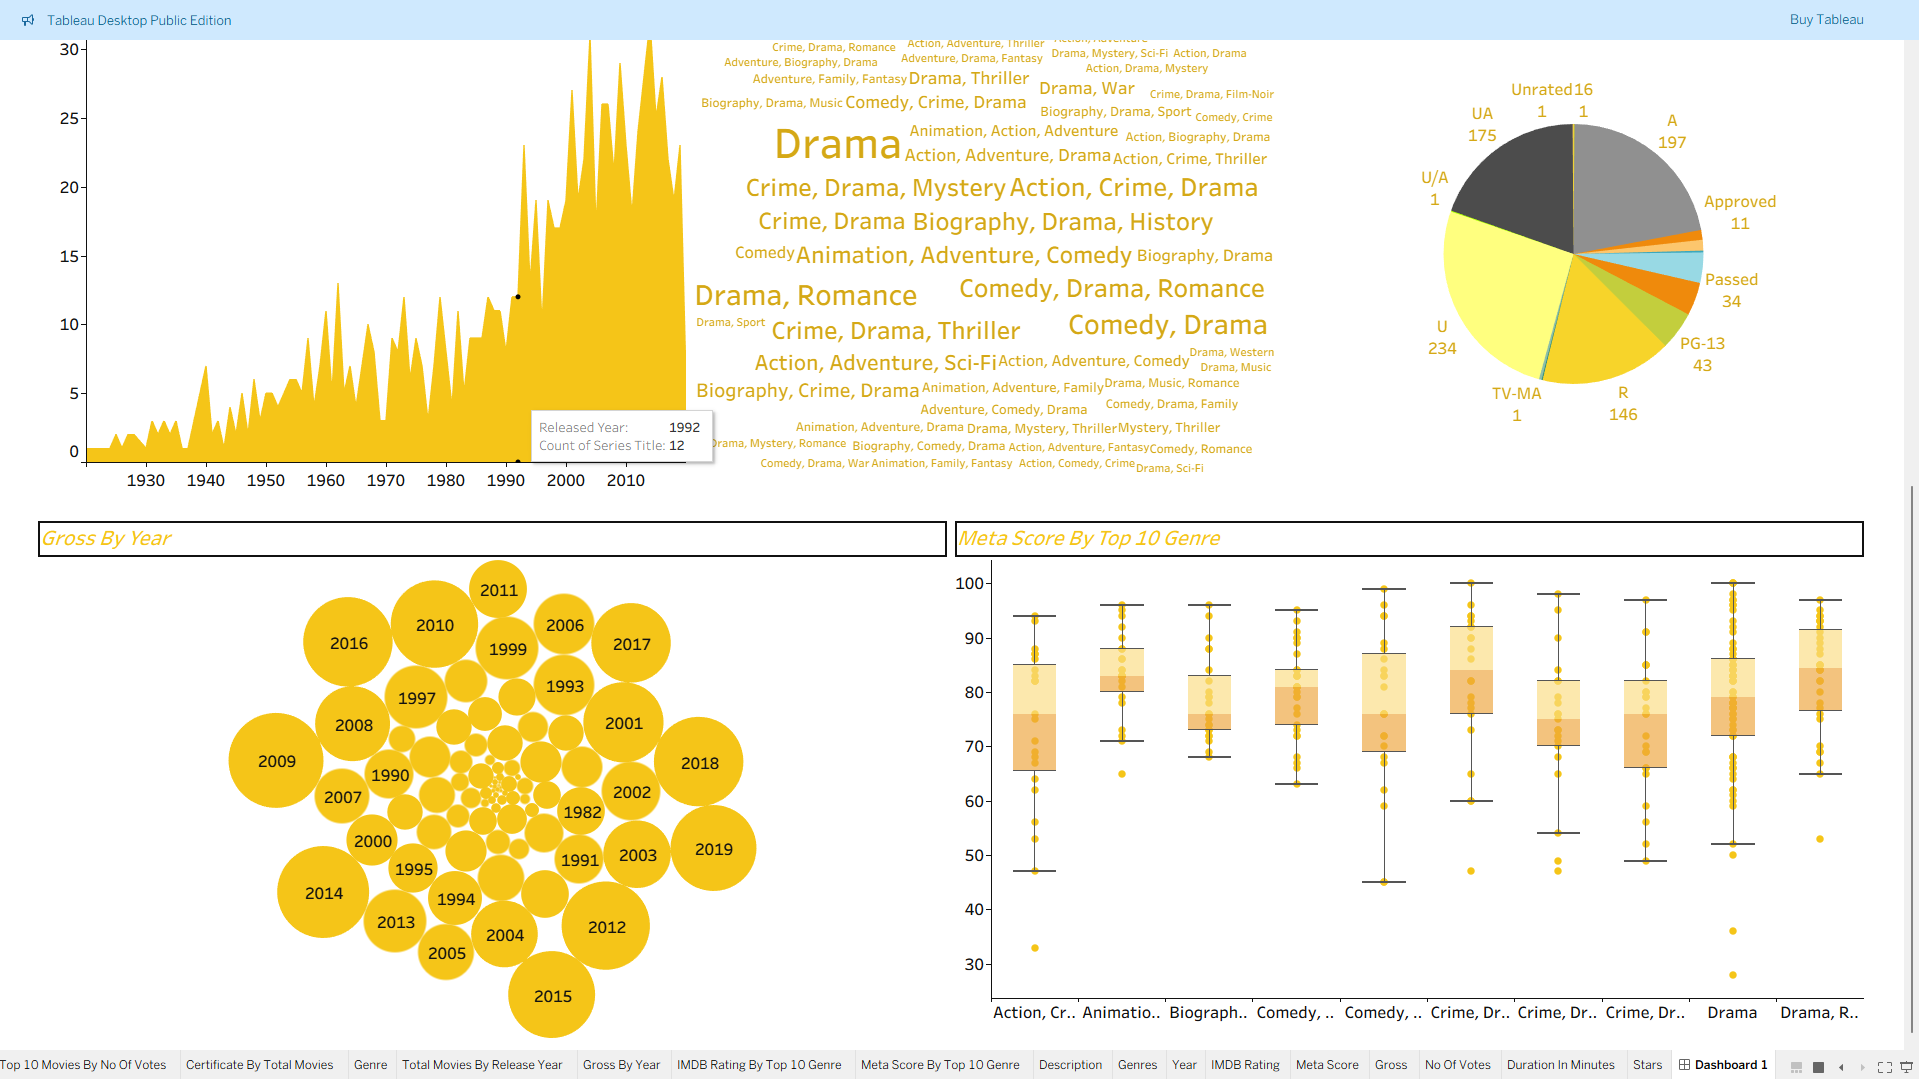

Layout of this report page (visuals, bound fields, positions):
{"tool":"tableau","page":{"name":"Dashboard 1","canvas":[1850,1800],"ordinal":0},"visuals":[{"type":"worksheet","title":"No Of Votes","mark":"Text","box":[8,8,229.2,104]},{"type":"worksheet","title":"Gross ","mark":"Text","box":[237.2,8,260.8,104]},{"type":"worksheet","title":"IMDB Rating","mark":"Text","box":[498,8,242,104]},{"type":"filter","title":"Description","param":"[federated.01yjoc115v95gh0ziov50025qm2x].[none:Series_Title:nk]","box":[740,8,209.7,104]},{"type":"worksheet","title":"Meta Score","mark":"Text","box":[949.7,8,209.7,104]},{"type":"worksheet","title":"Stars","mark":"Text","box":[1159.5,8,243.2,231]},{"type":"worksheet","title":"Description","mark":"Text","box":[1402.7,8,439.3,231]},{"type":"worksheet","title":"Duration In Minutes","mark":"Text","box":[8,112,229.2,127]},{"type":"worksheet","title":"Year","mark":"Text","box":[237.2,112,157.8,127]},{"type":"worksheet","title":"Genres","mark":"Text","box":[395,112,269,127]},{"type":"image","param":"Image/IMDB_Logo_2016.svg.png","box":[664,112,495.4,127]},{"type":"worksheet","title":"Top 10 Movies By No Of Votes","mark":"Automatic","rows":["Series_Title"],"cols":["No_of_Votes"],"box":[8,239,917,461.6]},{"type":"worksheet","title":"IMDB Rating By Top 10 Genre","mark":"Circle","rows":["IMDB_Rating"],"cols":["Genre"],"box":[925,239,917,461.6]},{"type":"worksheet","title":"Total Movies By Release Year","mark":"Area","rows":["Series_Title"],"cols":["Released_Year"],"box":[8,700.6,656,566.5]},{"type":"worksheet","title":"Genre","mark":"Text","box":[664,700.6,589,566.5]},{"type":"worksheet","title":"Certificate By Total Movies","mark":"Pie","box":[1253,700.6,589,566.5]},{"type":"worksheet","title":"Gross By Year","mark":"Circle","box":[8,1267.2,917,524.8]},{"type":"worksheet","title":"Meta Score By Top 10 Genre","mark":"Circle","rows":["Meta_score"],"cols":["Genre"],"box":[925,1267.2,917,524.8]}]}

Visuals, with their boxes on the page's 1850x1800 design canvas (x1, y1, x2, y2). These are canvas units, not pixel positions in the 1919x1079 screenshot, which may show the page scaled, cropped or inside an application window:
"No Of Votes" worksheet (Text marks): bbox=[8, 8, 237, 112]
"Gross " worksheet (Text marks): bbox=[237, 8, 498, 112]
"IMDB Rating" worksheet (Text marks): bbox=[498, 8, 740, 112]
"Description" filter: bbox=[740, 8, 950, 112]
"Meta Score" worksheet (Text marks): bbox=[950, 8, 1159, 112]
"Stars" worksheet (Text marks): bbox=[1160, 8, 1403, 239]
"Description" worksheet (Text marks): bbox=[1403, 8, 1842, 239]
"Duration In Minutes" worksheet (Text marks): bbox=[8, 112, 237, 239]
"Year" worksheet (Text marks): bbox=[237, 112, 395, 239]
"Genres" worksheet (Text marks): bbox=[395, 112, 664, 239]
image: bbox=[664, 112, 1159, 239]
"Top 10 Movies By No Of Votes" worksheet: bbox=[8, 239, 925, 701]
"IMDB Rating By Top 10 Genre" worksheet (Circle marks): bbox=[925, 239, 1842, 701]
"Total Movies By Release Year" worksheet (Area marks): bbox=[8, 701, 664, 1267]
"Genre" worksheet (Text marks): bbox=[664, 701, 1253, 1267]
"Certificate By Total Movies" worksheet (Pie marks): bbox=[1253, 701, 1842, 1267]
"Gross By Year" worksheet (Circle marks): bbox=[8, 1267, 925, 1792]
"Meta Score By Top 10 Genre" worksheet (Circle marks): bbox=[925, 1267, 1842, 1792]
